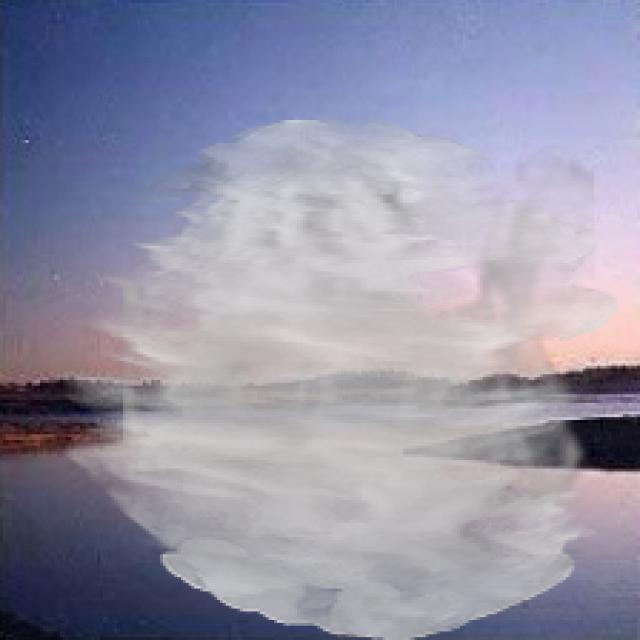smoke: (57, 117, 623, 637)
